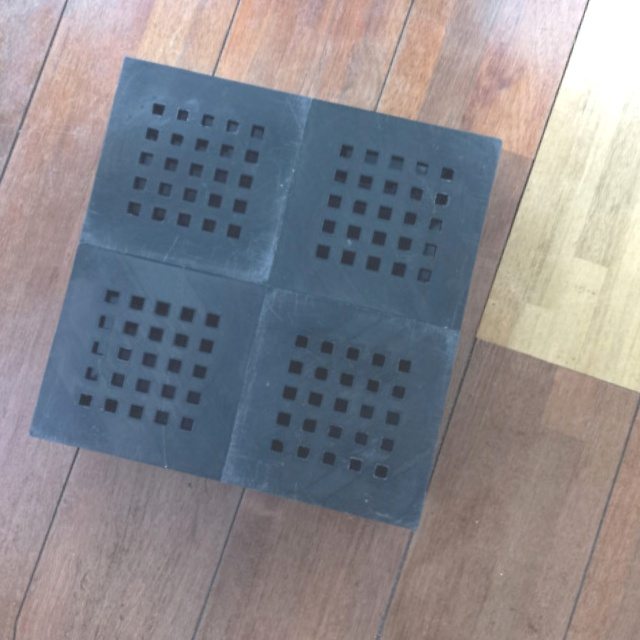pallet: (21, 47, 517, 540)
